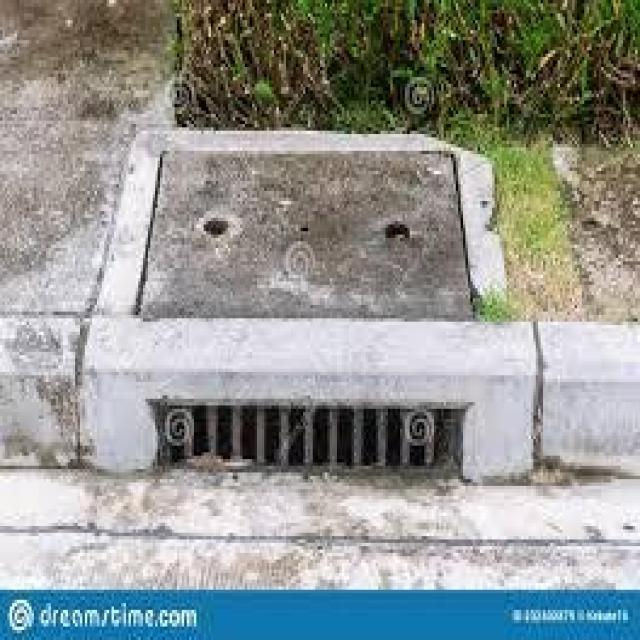bump: (7, 290, 640, 487)
